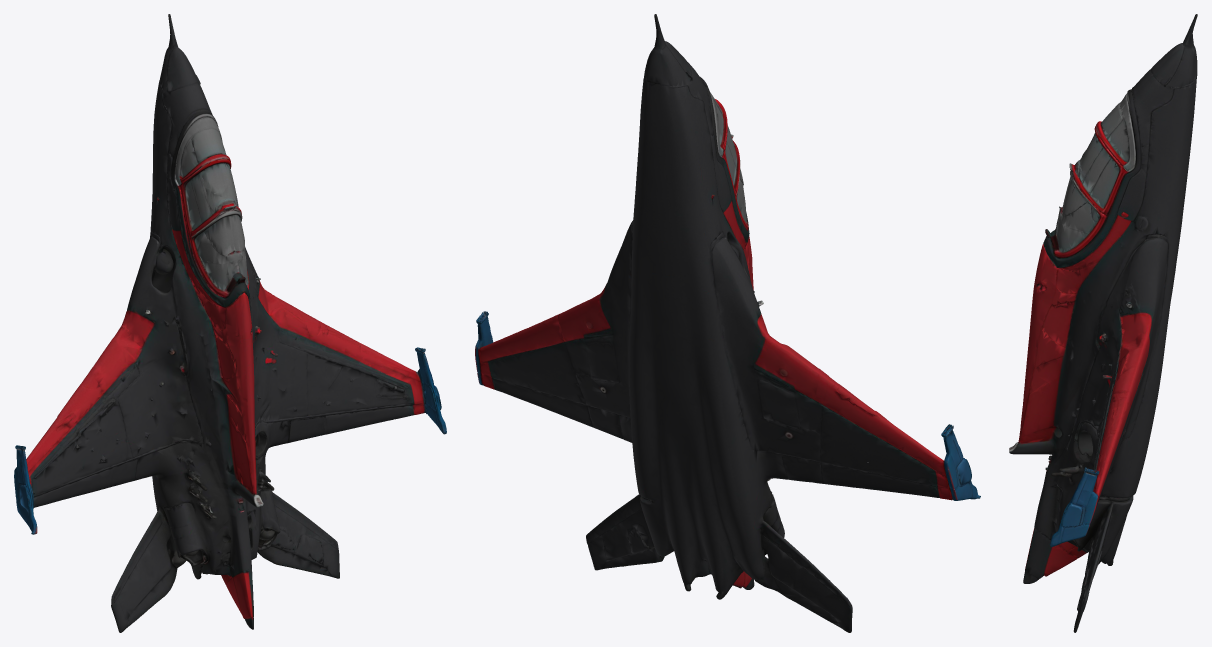
Rendered from raptor.glb.
The picture shows the model from 3 angles, left to right: view 1: azimuth 30°, elevation 25°; view 2: azimuth 150°, elevation 25°; view 3: azimuth 270°, elevation 25°; orthographic projection. The views are drawn at different scales.
Parts seen in each view (by area): view 1: tripo_node_10564c94-3cd1-46c9-b720-8f31b40058c8; view 2: tripo_node_10564c94-3cd1-46c9-b720-8f31b40058c8; view 3: tripo_node_10564c94-3cd1-46c9-b720-8f31b40058c8.
Boxes of the visible parts, bbox=[...] form: tripo_node_10564c94-3cd1-46c9-b720-8f31b40058c8: bbox=[14, 14, 446, 632]; tripo_node_10564c94-3cd1-46c9-b720-8f31b40058c8: bbox=[475, 14, 980, 632]; tripo_node_10564c94-3cd1-46c9-b720-8f31b40058c8: bbox=[1009, 14, 1197, 632].
Bounding box in the file's own units: 0.7675 × 0.9798 × 0.2939.
Materials: 1 (1 with a texture image).
